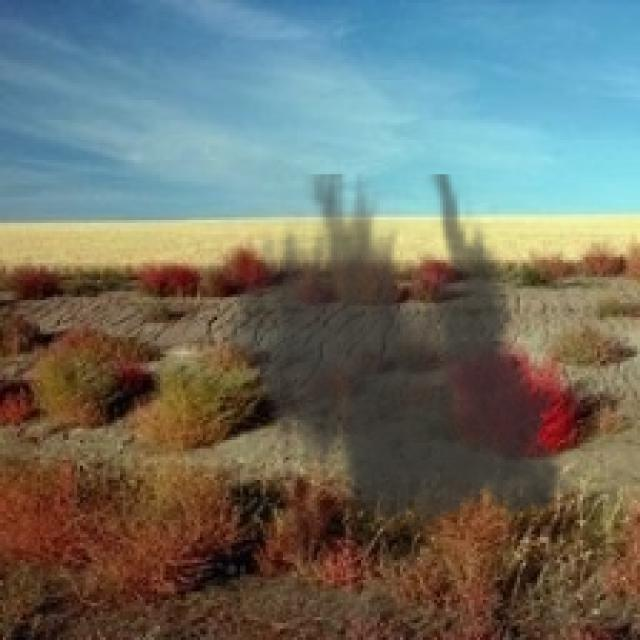smoke: (214, 174, 580, 549)
